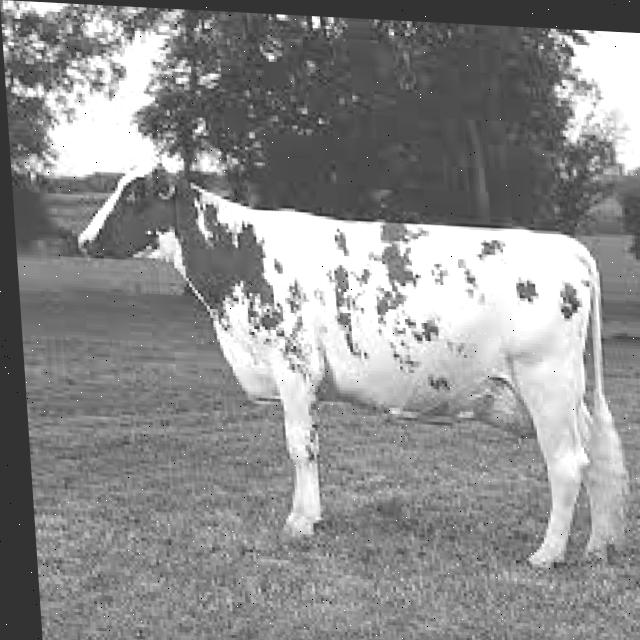Cow: (67, 149, 638, 576)
